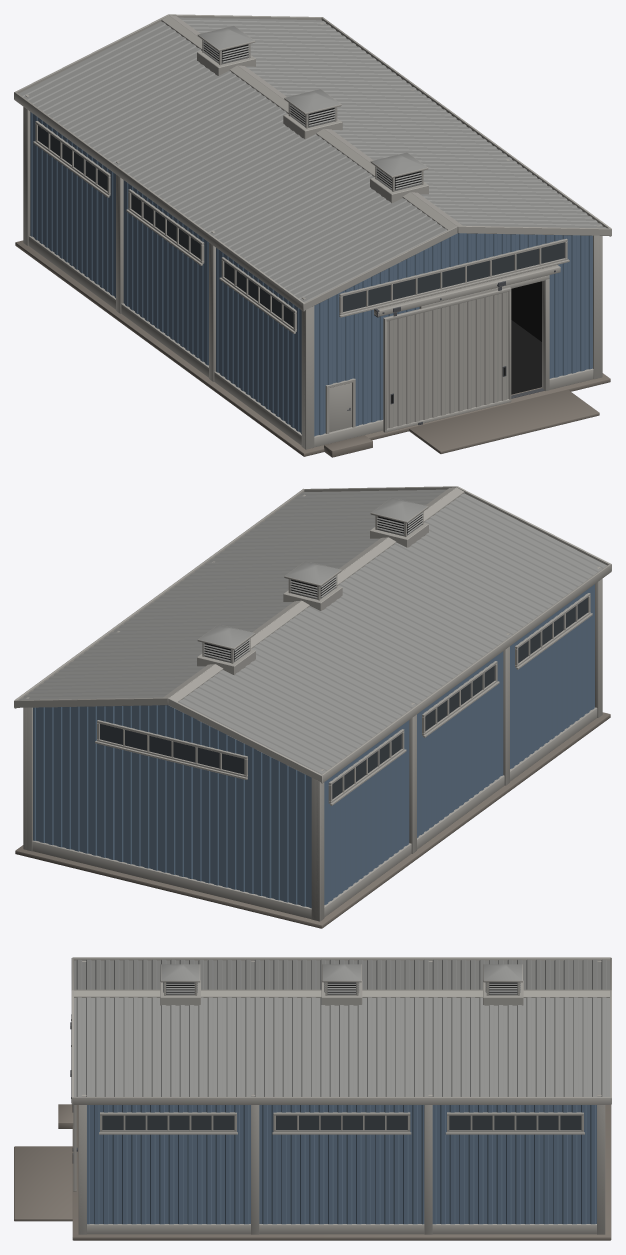
File: Warehouse.fbx
3 renders of one model, top to bottom at view 1: azimuth 30°, elevation 25°; view 2: azimuth 150°, elevation 25°; view 3: azimuth 270°, elevation 25°, orthographic. The views are drawn at different scales.
Parts seen in each view (by area): view 1: Warehouse_Mesh; view 2: Warehouse_Mesh; view 3: Warehouse_Mesh.
Part boxes in pixels (x1,y1,x2,y2): Warehouse_Mesh: (14, 14, 611, 457); Warehouse_Mesh: (14, 486, 611, 928); Warehouse_Mesh: (14, 957, 611, 1240).
Bounding box in the file's own units: 12.76 × 8.71 × 22.98.
